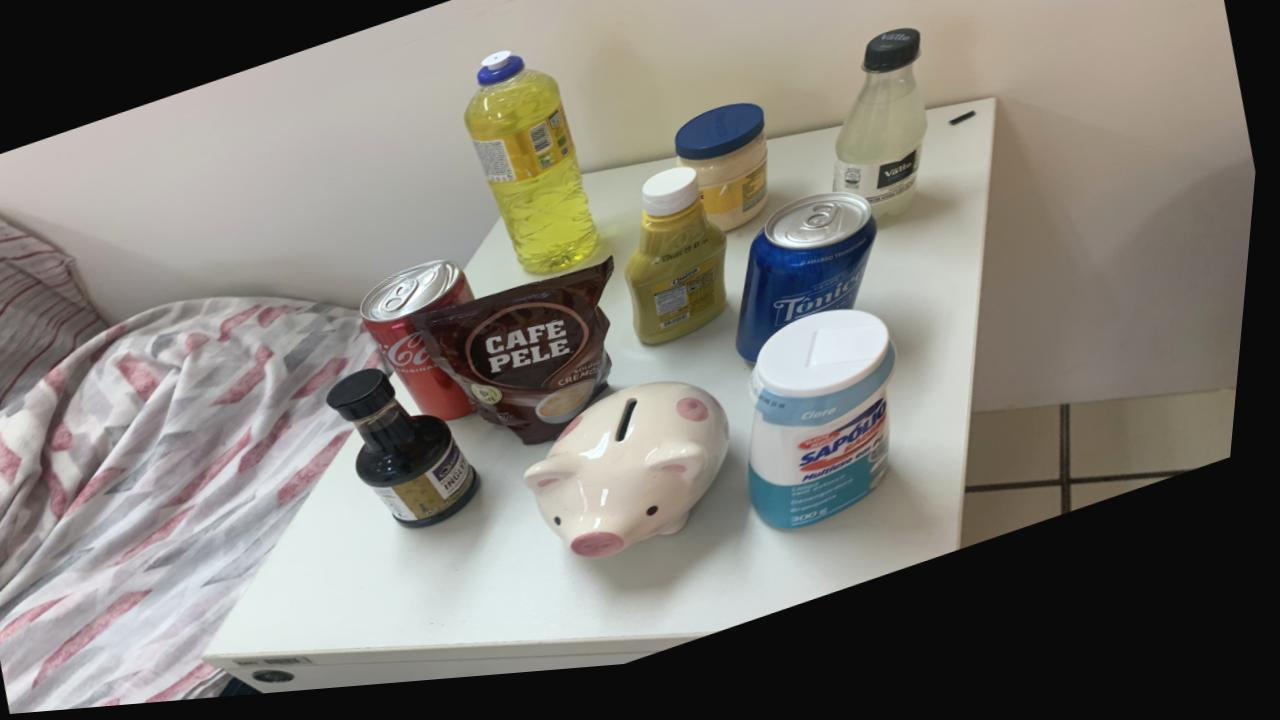Cleaner-Cleanup_Items: (757, 325, 904, 545)
Coffee-Pantry_Items: (420, 267, 620, 454)
Coke-Drinks: (366, 268, 485, 428)
Detergent-Cleanup_Items: (468, 60, 604, 284)
English_Sauce-Pantry_Items: (334, 375, 490, 536)
Mayonnaise-Pantry_Items: (678, 116, 773, 244)
Mustard-Pantry_Items: (631, 179, 734, 356)
Pig_Safe-Miscellaneous: (533, 393, 740, 569)
Soda-Drinks: (837, 43, 931, 234)
Tonic-Drinks: (743, 206, 884, 376)
